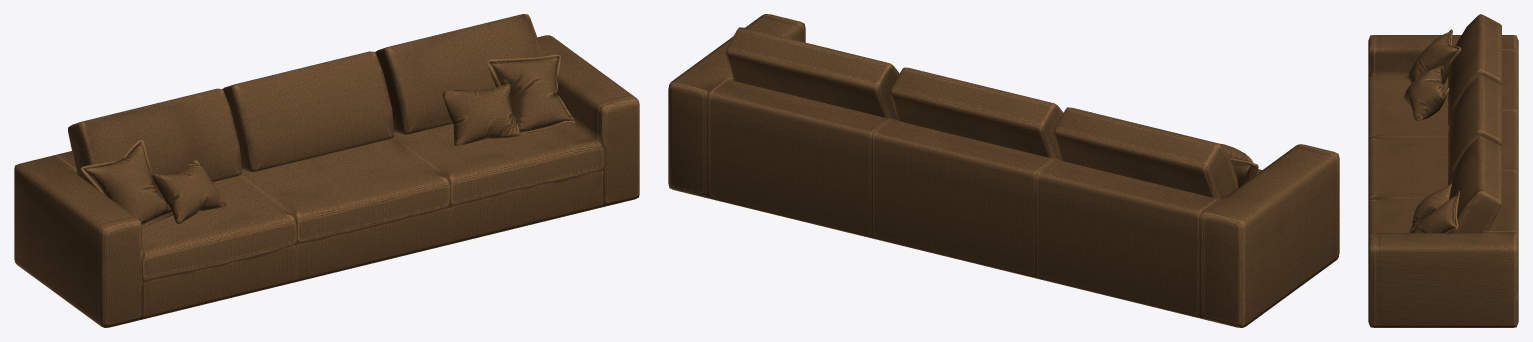
The model's file is sofa.glb.
3 views of the same model, side by side, from view 1: azimuth 30°, elevation 25°; view 2: azimuth 150°, elevation 25°; view 3: azimuth 270°, elevation 25° (orthographic). The views are drawn at different scales.
Visible parts, largest first — view 1: Rectangle001; view 2: Rectangle001; view 3: Rectangle001.
Boxes of the visible parts, x1=… form: Rectangle001: x1=14, y1=14, x2=639, y2=327; Rectangle001: x1=668, y1=14, x2=1339, y2=327; Rectangle001: x1=1368, y1=14, x2=1518, y2=327.
Size of the model in its own units: 3530 by 921 by 1045.
Materials: 1 (1 with a texture image).
